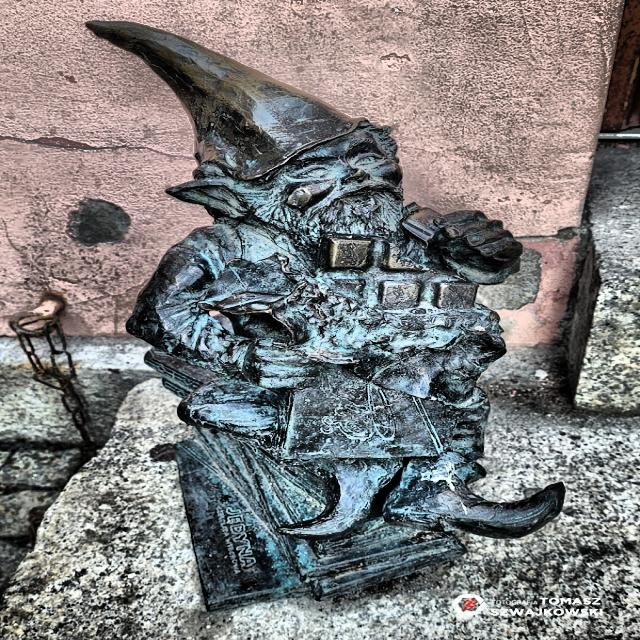Wedelek: (88, 22, 564, 610)
